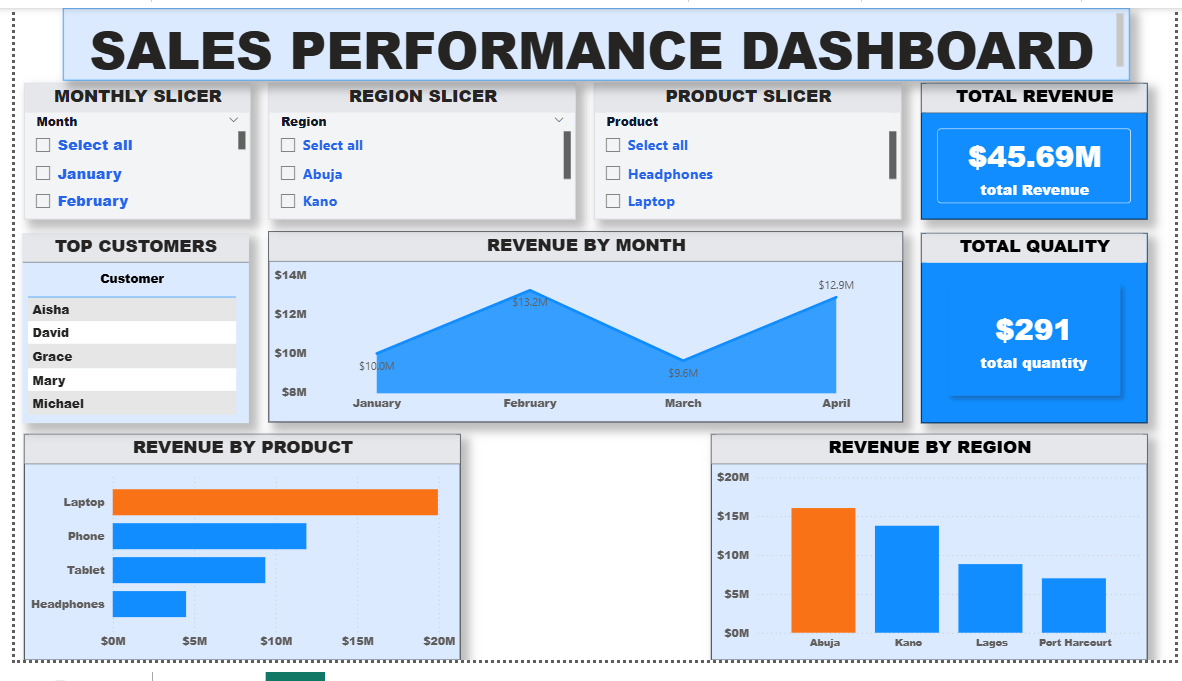

The page's visual inventory and layout, read from the dashboard file:
{"tool":"powerbi","page":{"name":"Page 1","canvas":[1280,720],"ordinal":0},"visuals":[{"type":"cardVisual","title":"TOTAL QUALITY","fields":{"Data":["sales_dataset.total quantity"]},"box":[1000.5,248.5,250.1,210],"z":0},{"type":"cardVisual","title":"TOTAL REVENUE","fields":{"Data":["sales_dataset.total Revenue"]},"box":[1000.5,82.8,250.1,150.7],"z":1000},{"type":"clusteredBarChart","title":"REVENUE BY PRODUCT","fields":{"Category":["sales_dataset.Product"],"Y":["Sum(sales_dataset.Revenue)"]},"box":[9.9,470.4,482,250.1],"z":2000},{"type":"columnChart","title":"REVENUE BY REGION","fields":{"Category":["sales_dataset.Region"],"Y":["Sum(sales_dataset.Revenue)"]},"box":[768.6,470.4,482,250.1],"z":3000},{"type":"lineChart","title":"REVENUE BY MONTH","fields":{"Y":["Sum(sales_dataset.Revenue)"],"Category":["sales_dataset.Date.Variation.Date Hierarchy.Month"]},"box":[279.9,246.8,700.7,210.4],"z":4000},{"type":"tableEx","title":"TOP CUSTOMERS","fields":{"Values":["sales_dataset.Customer"]},"box":[9,248.5,250.1,210],"z":5000},{"type":"slicer","title":"MONTHLY SLICER","fields":{"Values":["sales_dataset.Date.Variation.Date Hierarchy.Month"]},"box":[9.9,82.8,250.1,150.7],"z":6000},{"type":"slicer","title":"PRODUCT SLICER","fields":{"Values":["sales_dataset.Product"]},"box":[639.4,82.8,339.6,150.7],"z":7000},{"type":"slicer","title":"REGION SLICER","fields":{"Values":["sales_dataset.Region"]},"box":[279.9,82.8,339.6,150.7],"z":8000},{"type":"textbox","box":[53,0,1177.8,80],"z":9000}]}

Visuals, with their boxes in screenshot pixels (x1, y1, x2, y2), scaled from the page's 1280x720 canvas onto the 1182x681 screenshot:
"TOTAL QUALITY" cardVisual: <region>924, 235, 1155, 434</region>
"TOTAL REVENUE" cardVisual: <region>924, 78, 1155, 221</region>
"REVENUE BY PRODUCT" clusteredBarChart: <region>9, 445, 454, 680</region>
"REVENUE BY REGION" columnChart: <region>710, 445, 1155, 680</region>
"REVENUE BY MONTH" lineChart: <region>258, 233, 906, 432</region>
"TOP CUSTOMERS" tableEx: <region>8, 235, 239, 434</region>
"MONTHLY SLICER" slicer: <region>9, 78, 240, 221</region>
"PRODUCT SLICER" slicer: <region>590, 78, 904, 221</region>
"REGION SLICER" slicer: <region>258, 78, 572, 221</region>
textbox: <region>49, 0, 1137, 76</region>
